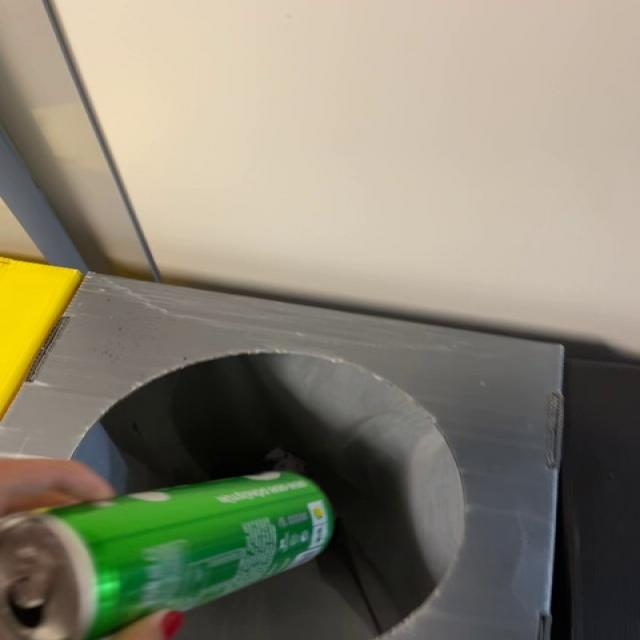bin: (3, 275, 564, 640)
metal: (1, 473, 333, 640)
